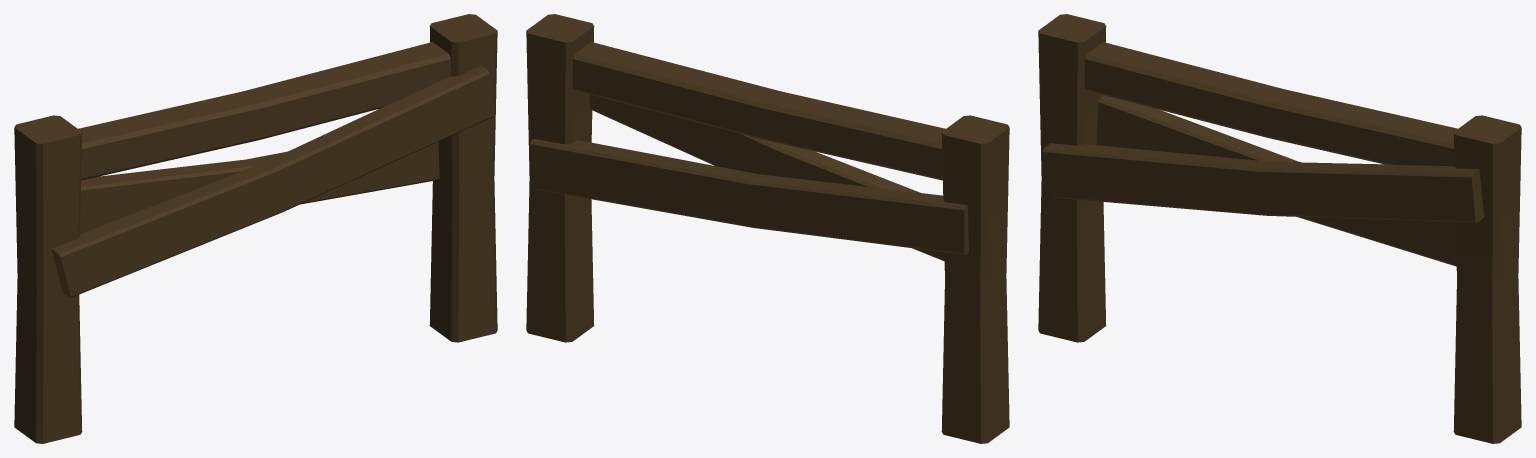
The model's file is Fence1.FBX.
3 views of the same model, side by side, from view 1: azimuth 30°, elevation 25°; view 2: azimuth 150°, elevation 25°; view 3: azimuth 330°, elevation 25° (orthographic).
Visible parts, largest first — view 1: Object001; view 2: Object001; view 3: Object001.
Part boxes in pixels (x1=…): Object001: x1=14, y1=14, x2=497, y2=443; Object001: x1=526, y1=14, x2=1009, y2=443; Object001: x1=1038, y1=14, x2=1521, y2=443.
Bounding box in the file's own units: 65.57 × 9.48 × 40.71.
